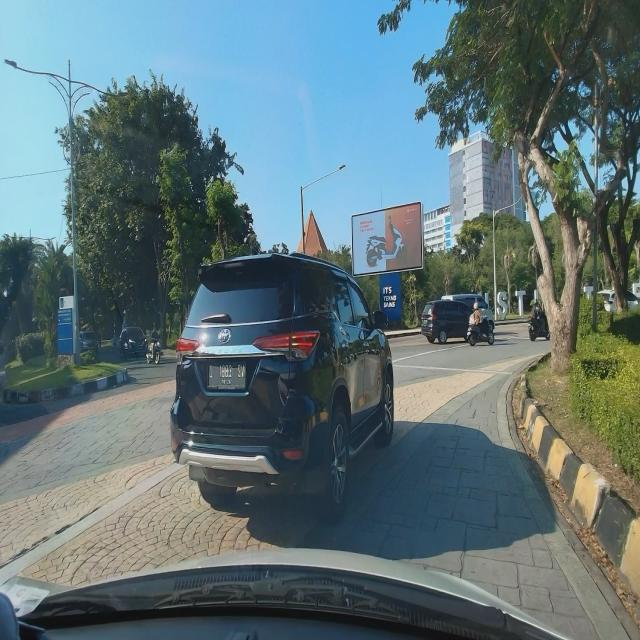car: (165, 242, 397, 521)
license-plate: (207, 358, 247, 389)
